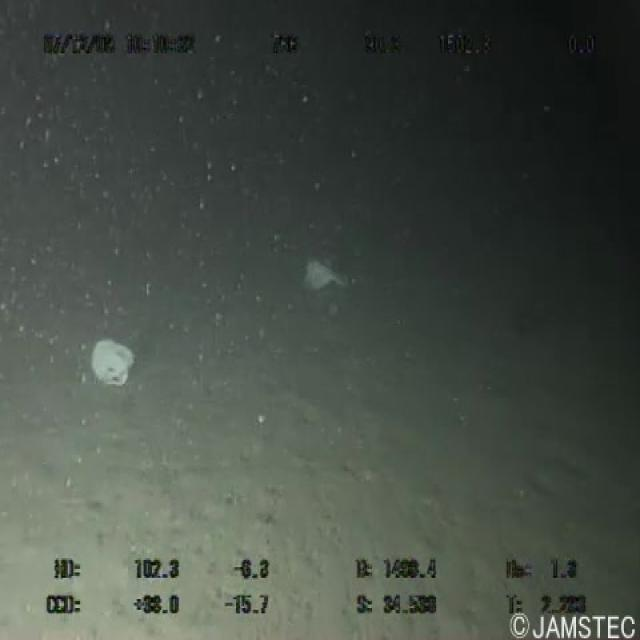plastic: (86, 331, 142, 389), (300, 245, 351, 299)
